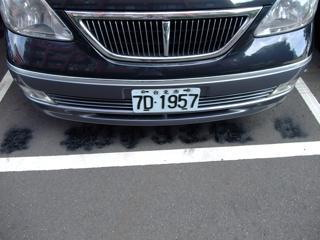plate: (130, 86, 201, 115)
